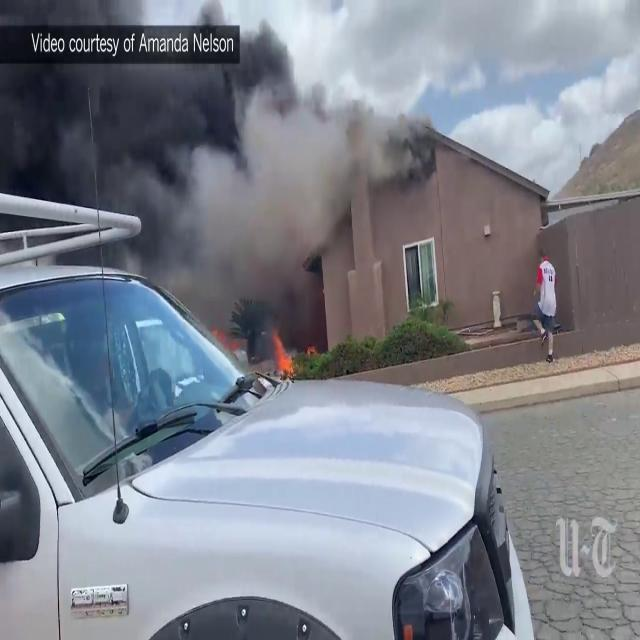Fire: (266, 322, 298, 380)
Smoke: (0, 0, 394, 286)
